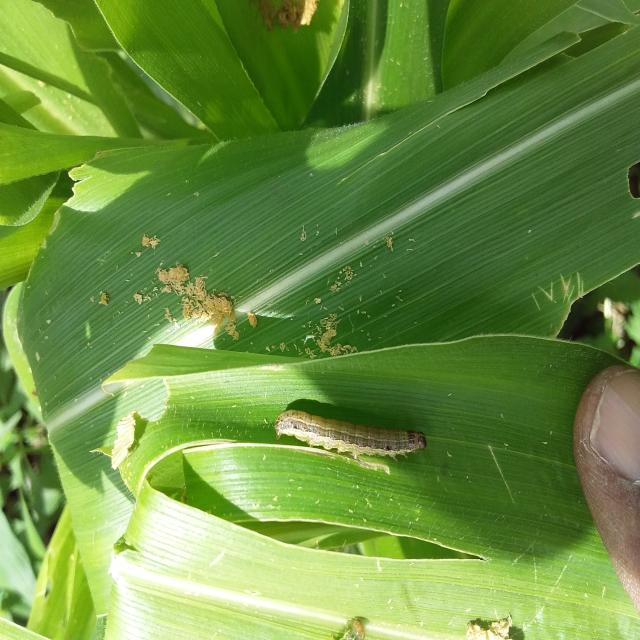yellow-stem-borer-larva: (263, 397, 437, 468)
